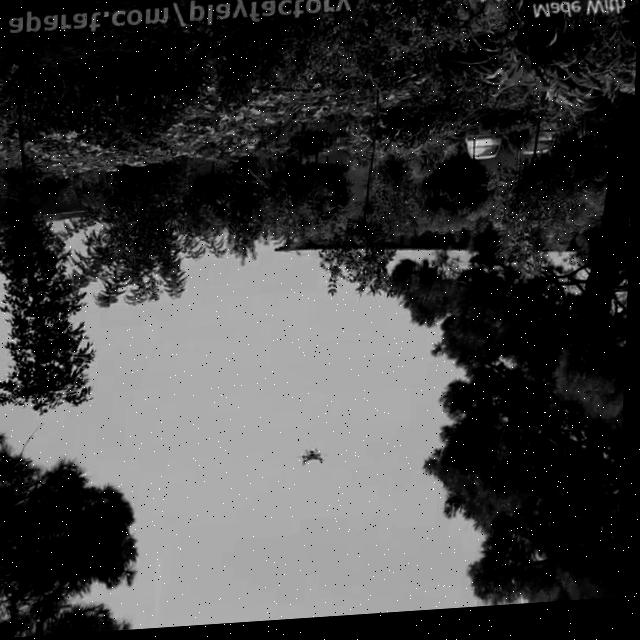drone: (299, 449, 333, 480)
